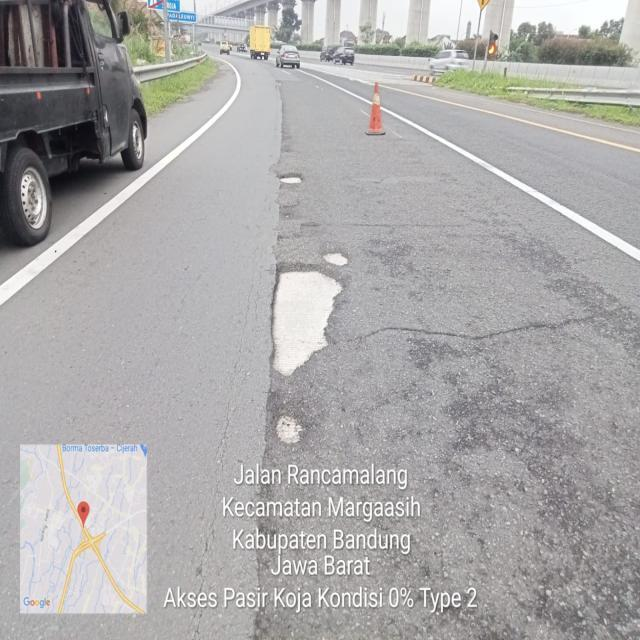Buraco: (266, 259, 351, 381), (268, 400, 312, 450), (316, 247, 354, 270), (275, 172, 306, 186)
